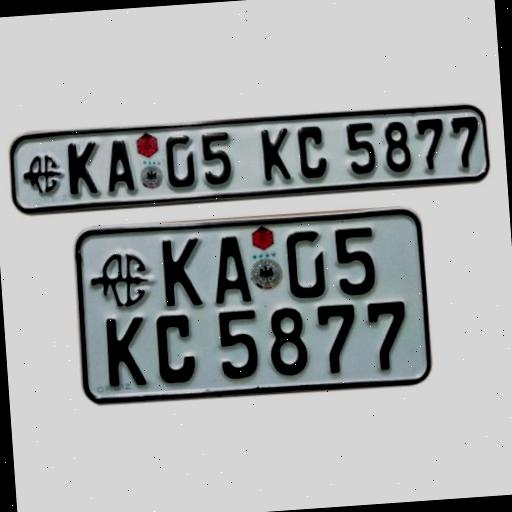number plate: (70, 206, 435, 409), (6, 98, 492, 219)
